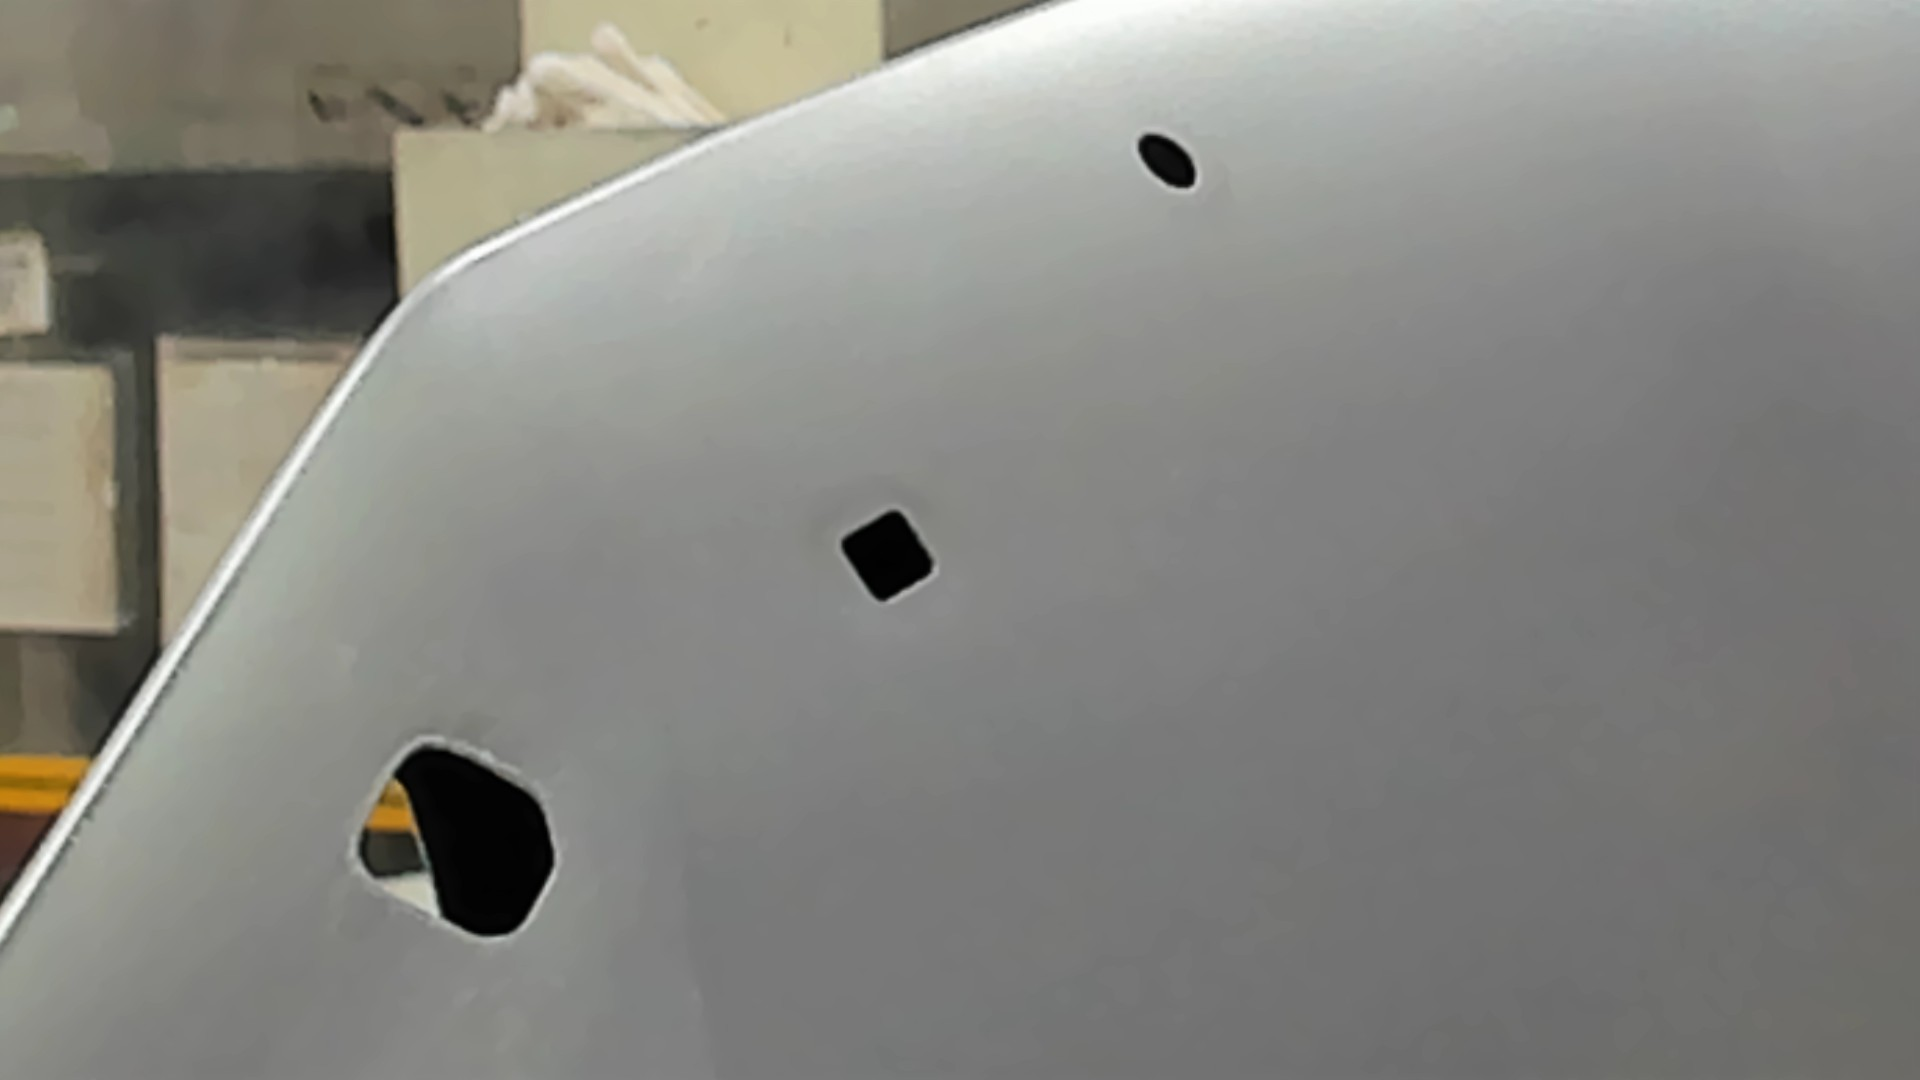chico: (1133, 128, 1203, 193)
grande: (348, 732, 563, 945)
mediano: (833, 500, 947, 615)
